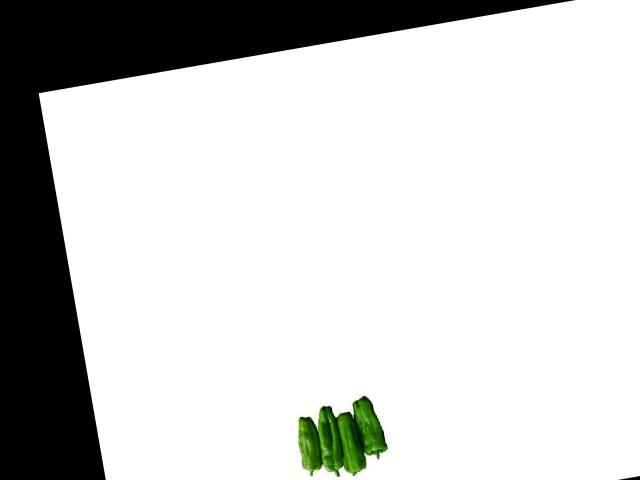bell_pepper: (349, 388, 389, 465)
